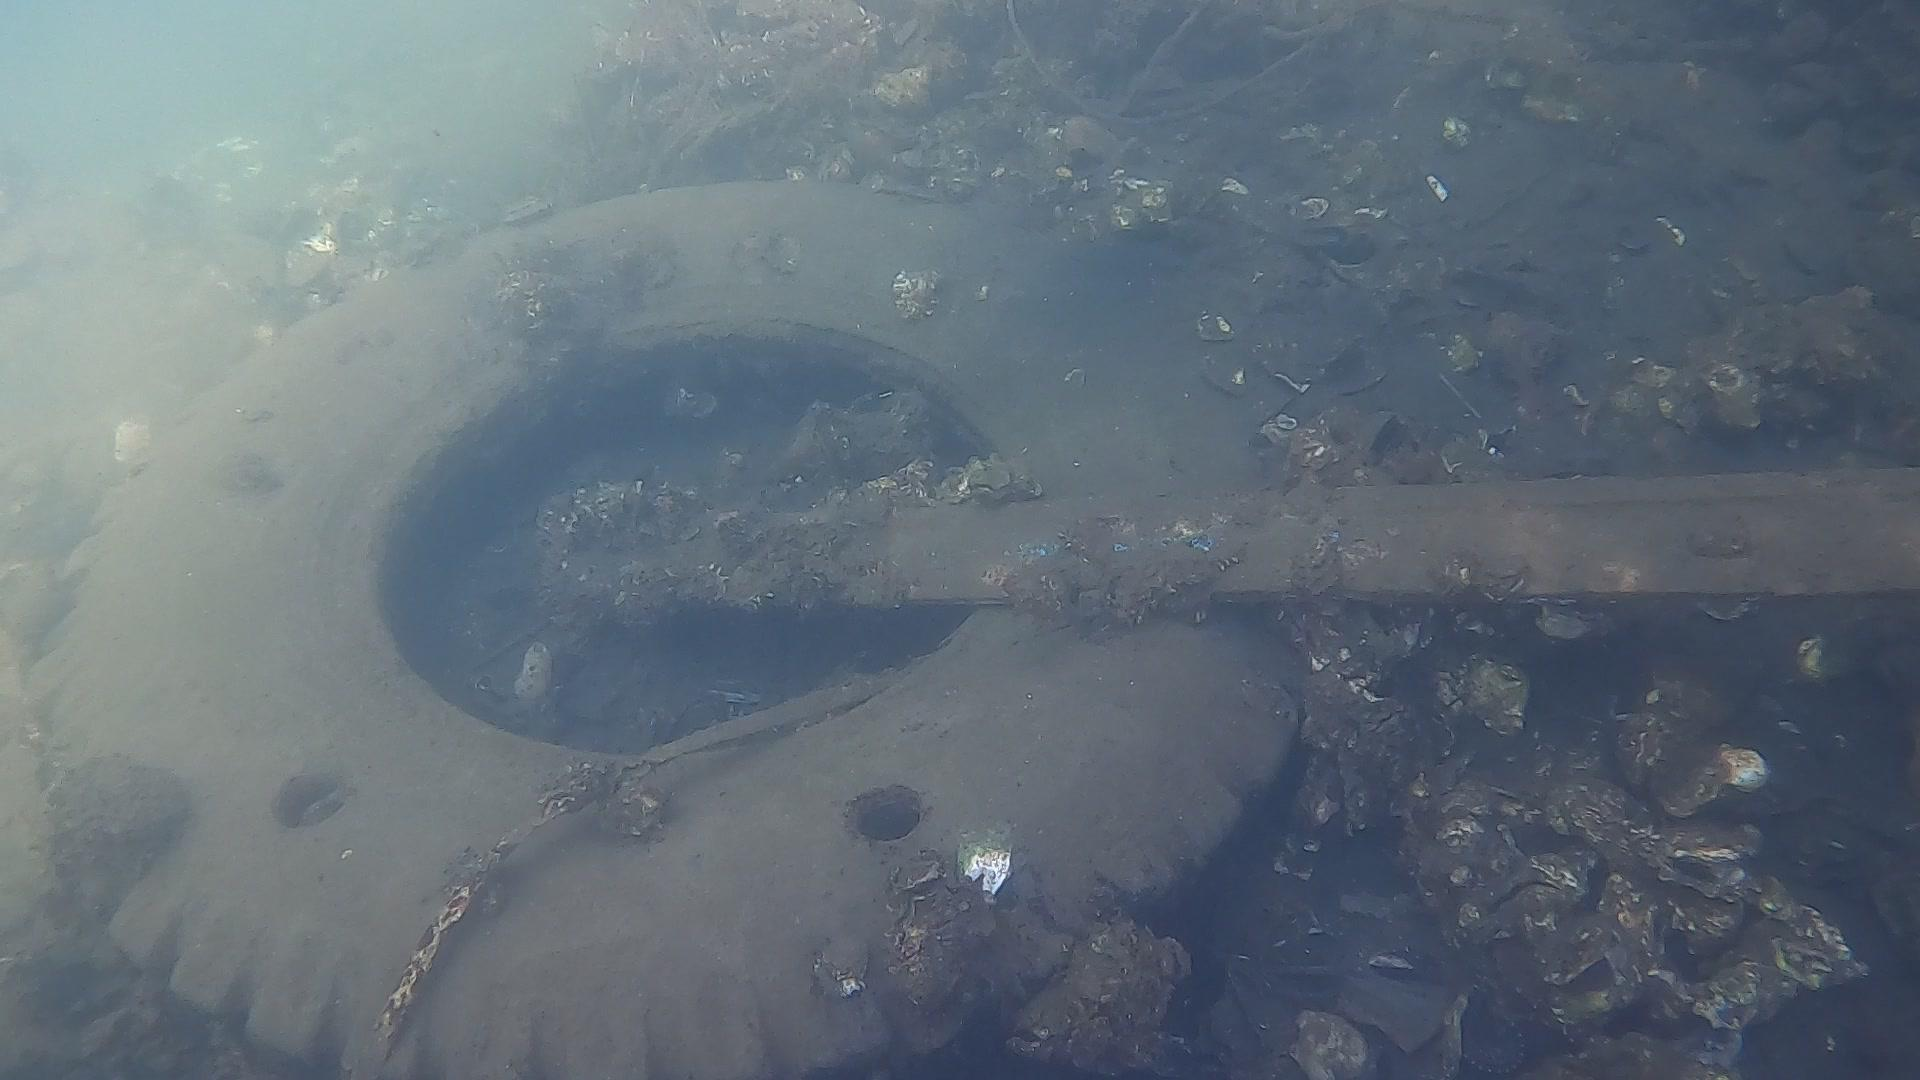tire: (49, 175, 1305, 1080)
wood: (870, 451, 1920, 626)
